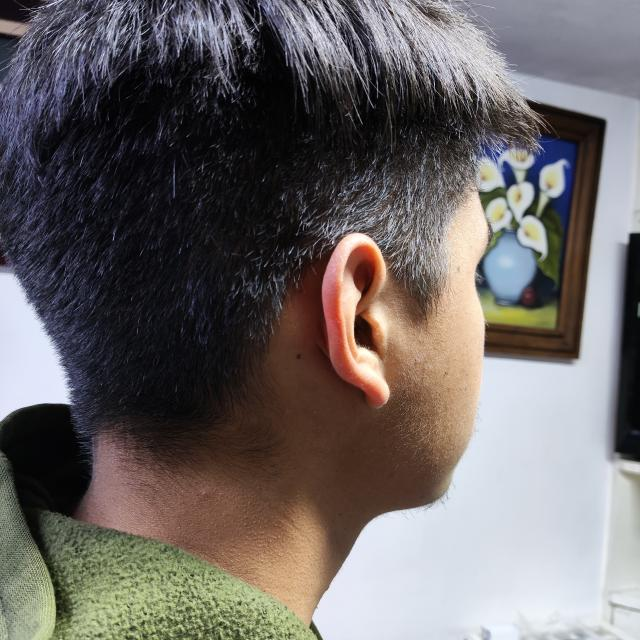ear: (321, 232, 391, 408)
